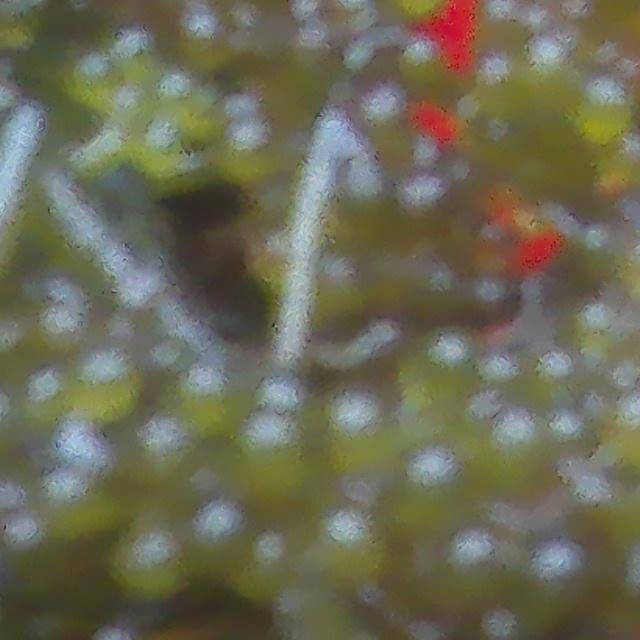SeaGrape: (232, 424, 311, 503), (320, 511, 385, 592), (223, 530, 292, 602), (404, 449, 471, 516), (523, 540, 581, 616), (69, 356, 143, 415), (118, 529, 185, 594), (323, 387, 385, 457), (490, 414, 555, 479), (46, 463, 106, 530), (453, 528, 499, 598)
